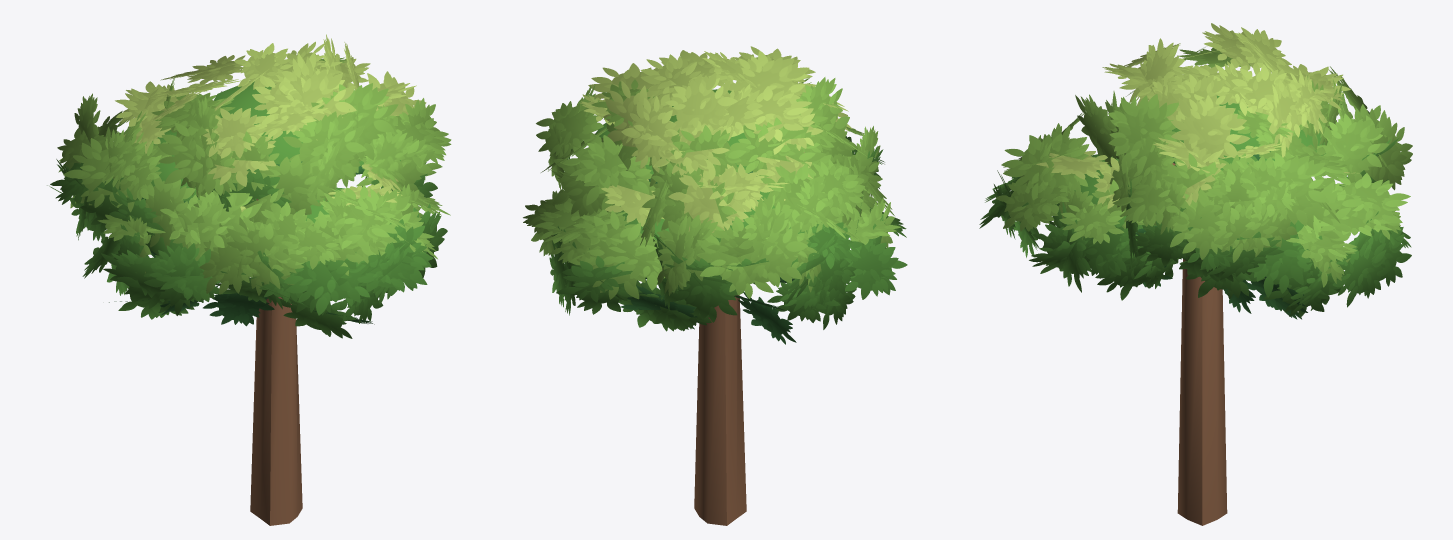
The model's file is tree_round_b.glb.
The picture shows the model from 3 angles, left to right: view 1: azimuth 30°, elevation 25°; view 2: azimuth 150°, elevation 25°; view 3: azimuth 270°, elevation 25°; orthographic projection.
Visible parts, largest first — view 1: body; view 2: body; view 3: body.
Part boxes in pixels (box(x1,y1,x2,y2)): body: box(47, 34, 451, 525); body: box(523, 46, 907, 525); body: box(979, 23, 1412, 525).
Size of the model in its own units: 3.6 by 4.4 by 3.82.
2 materials, 1 textured.
